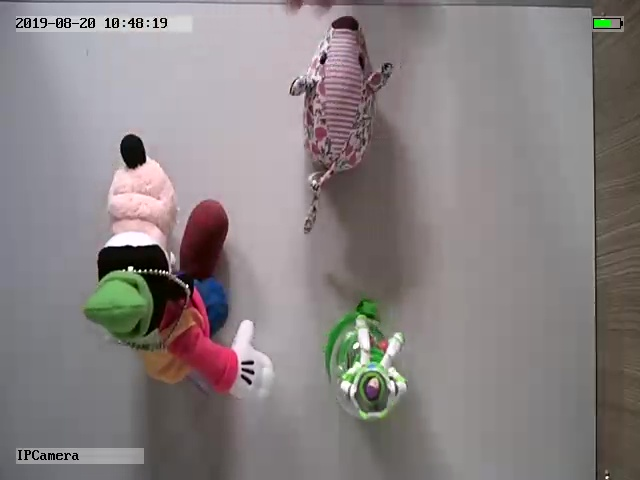buzz: (322, 296, 411, 425)
goofy: (77, 129, 275, 404)
pig: (287, 15, 399, 237)
